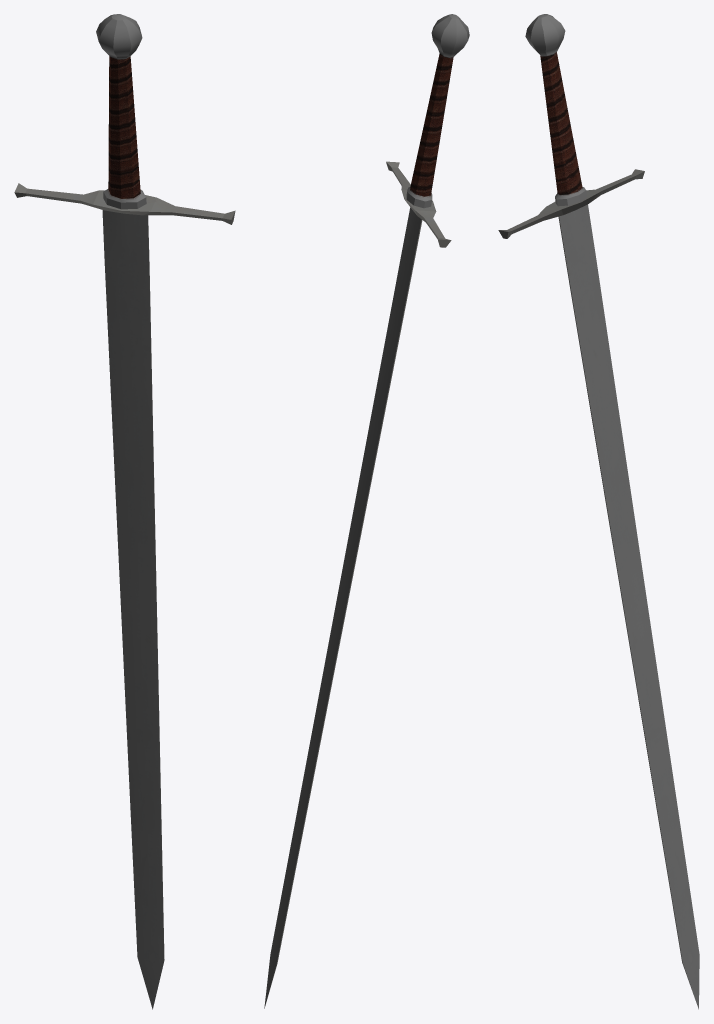
The model's file is sword.obj.
The picture shows the model from 3 angles, left to right: view 1: azimuth 30°, elevation 25°; view 2: azimuth 150°, elevation 25°; view 3: azimuth 270°, elevation 25°; orthographic projection. The views are drawn at different scales.
Parts seen in each view (by area): view 1: sword; view 2: sword; view 3: sword.
Part boxes in pixels (box(x1,y1,x2,y2)): sword: box(14, 14, 235, 1009); sword: box(264, 14, 469, 1008); sword: box(498, 14, 699, 1009).
Size of the model in its own units: 0.3976 by 2.33 by 0.4517.
Materials: 1 (1 with a texture image).
